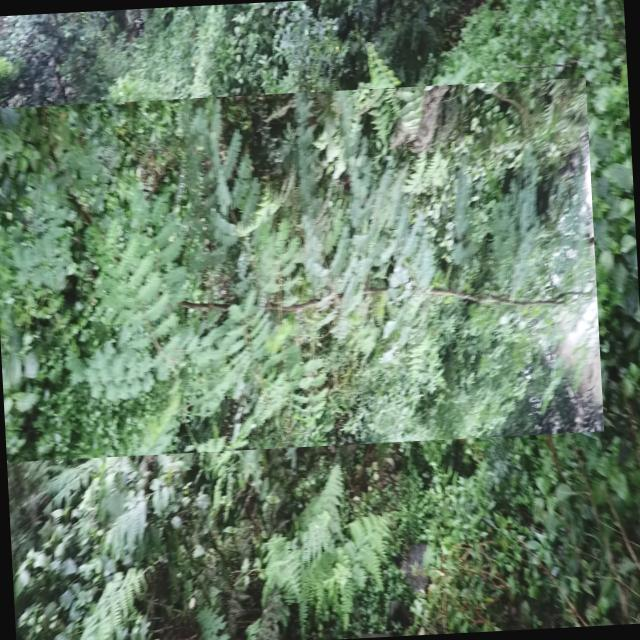Mysore-Thorn-Weed: (0, 77, 604, 462)
